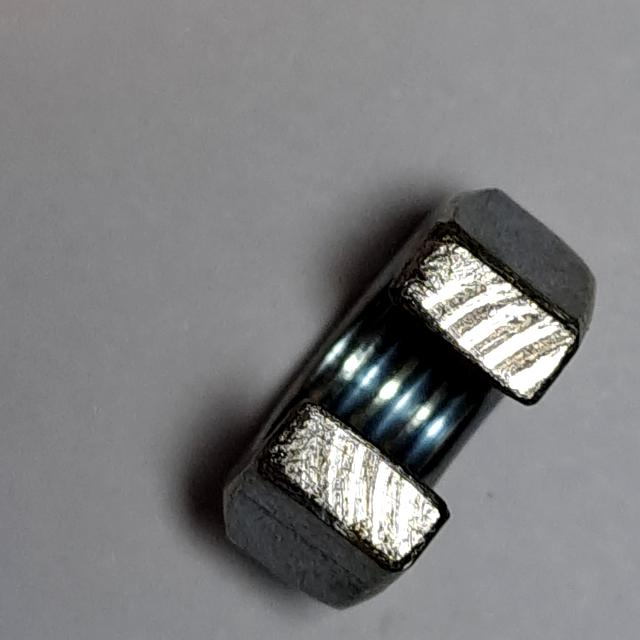Side-Fracture: (209, 177, 609, 632)
